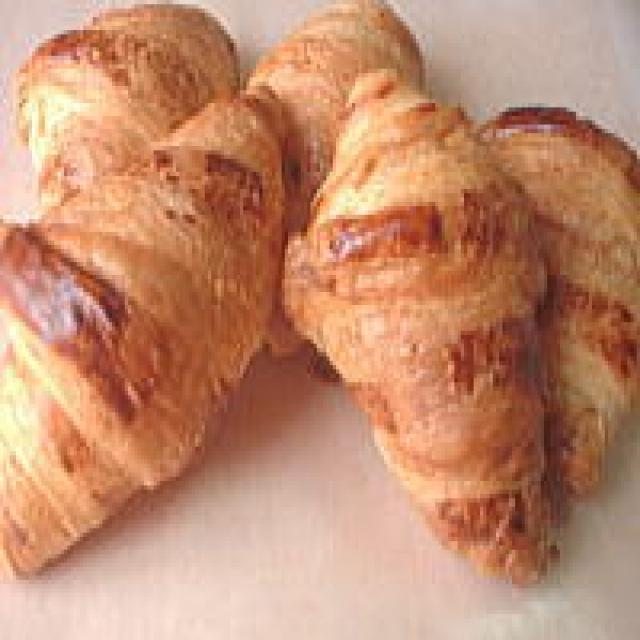Croissant: (287, 65, 563, 601)
